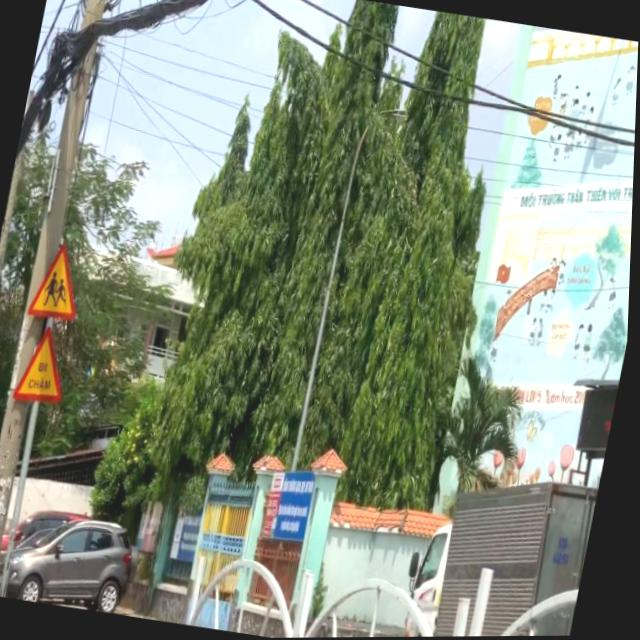Di cham: (13, 322, 78, 408)
Tre em: (28, 236, 93, 323)
